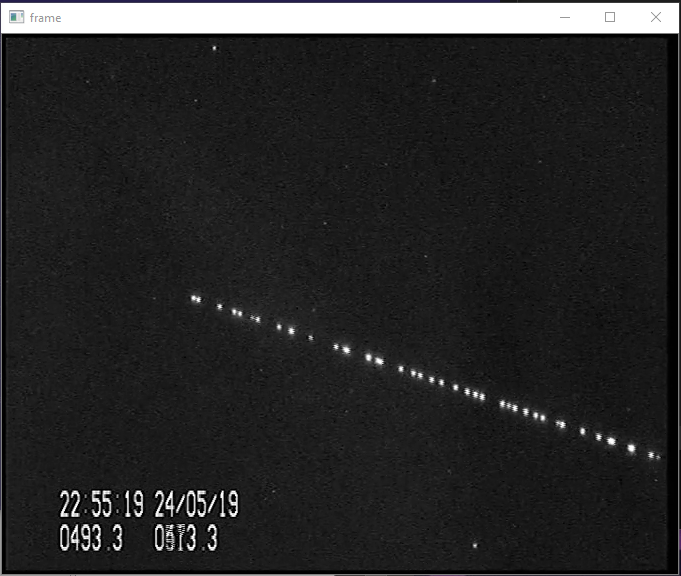satelita: (648, 447, 662, 461), (625, 441, 638, 454), (555, 419, 566, 431), (593, 431, 604, 443), (530, 411, 540, 422), (435, 377, 447, 386), (424, 376, 434, 386), (607, 434, 617, 444), (408, 368, 417, 379), (450, 381, 459, 392), (521, 406, 530, 417), (579, 424, 588, 435), (511, 404, 521, 413), (478, 392, 486, 402), (505, 401, 513, 411), (540, 413, 548, 422), (464, 386, 471, 396), (473, 389, 480, 399), (498, 397, 504, 408), (417, 372, 424, 379)
satelite: (362, 352, 374, 363), (372, 357, 387, 365), (287, 326, 300, 334), (273, 322, 283, 332), (394, 364, 403, 374), (214, 303, 223, 312), (236, 309, 246, 317), (254, 316, 265, 323), (189, 294, 197, 303), (342, 346, 350, 355), (306, 333, 316, 340), (197, 295, 204, 303), (332, 343, 338, 351), (231, 308, 236, 316), (249, 315, 253, 321)
